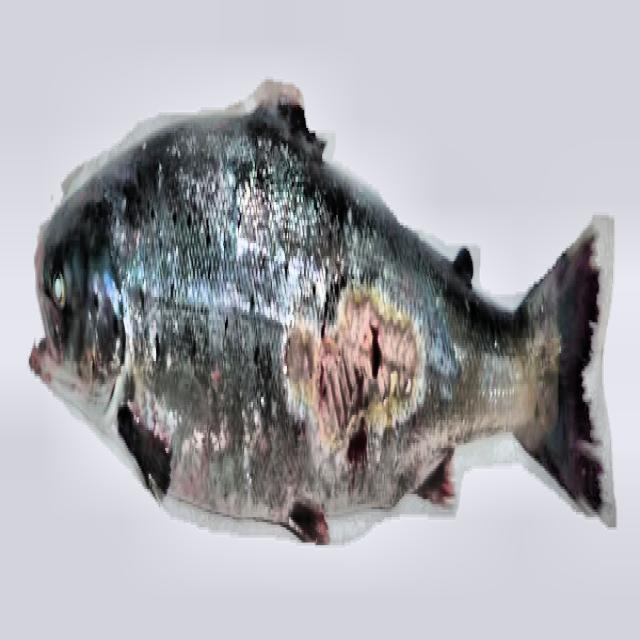mild_red: (90, 97, 516, 520)
wound: (280, 279, 426, 470)
